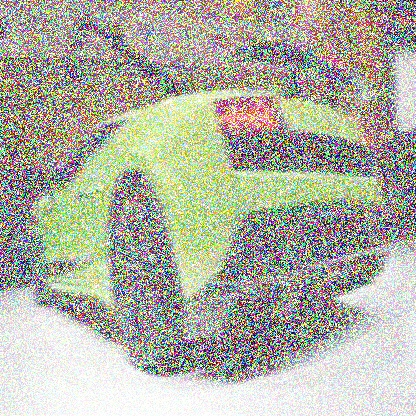Vehicle: (29, 44, 390, 372)
